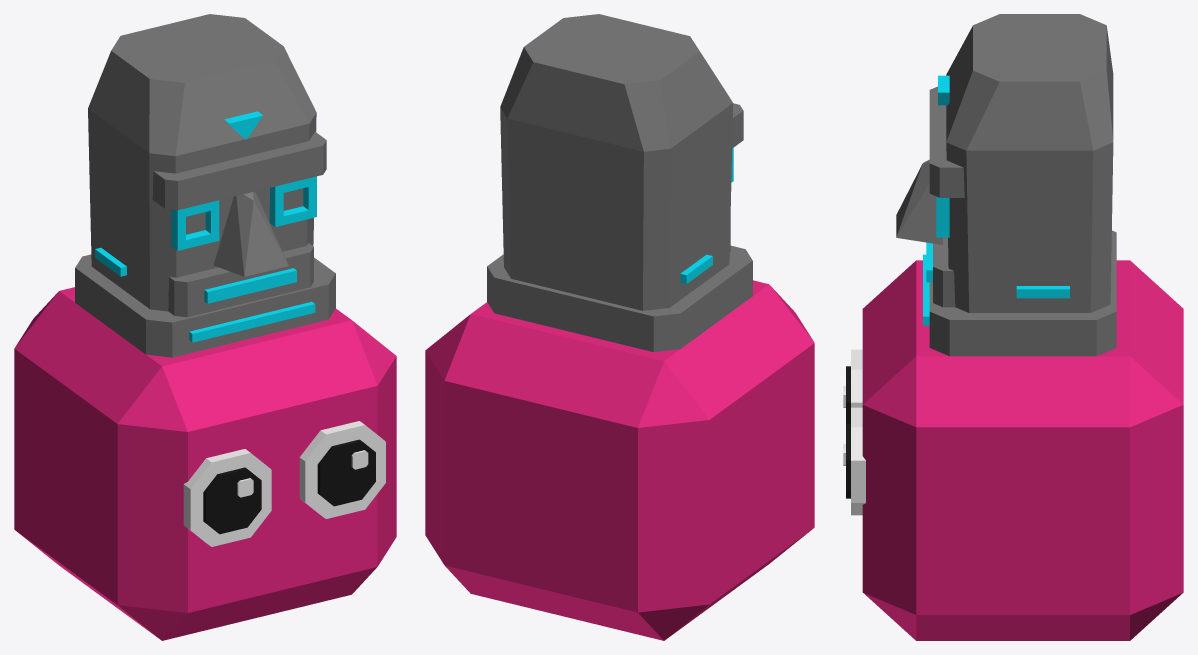
File: Tiki.fbx
3 views of the same model, side by side, from view 1: azimuth 30°, elevation 25°; view 2: azimuth 150°, elevation 25°; view 3: azimuth 270°, elevation 25° (orthographic). The views are drawn at different scales.
Visible parts, largest first — view 1: Tiki, Tiki_Head, Tiki_Eyes, Tiki_Marks, Tiki_Pupils; view 2: Tiki, Tiki_Head, Tiki_Marks; view 3: Tiki, Tiki_Head, Tiki_Marks, Tiki_Eyes, Tiki_Pupils.
Boxes of the visible parts, x1,y1,x2,y2 form: Tiki: (14,287,396,640); Tiki_Head: (75,14,335,357); Tiki_Eyes: (183,421,385,546); Tiki_Marks: (95,111,316,342); Tiki_Pupils: (203,439,375,534); Tiki: (425,280,814,640); Tiki_Head: (487,14,752,352); Tiki_Marks: (680,148,733,283); Tiki: (862,260,1183,640); Tiki_Head: (896,14,1116,356); Tiki_Marks: (923,75,1069,325); Tiki_Eyes: (843,349,865,515); Tiki_Pupils: (846,366,850,498).
Size of the model in its own units: 2 by 3.6 by 2.04.
